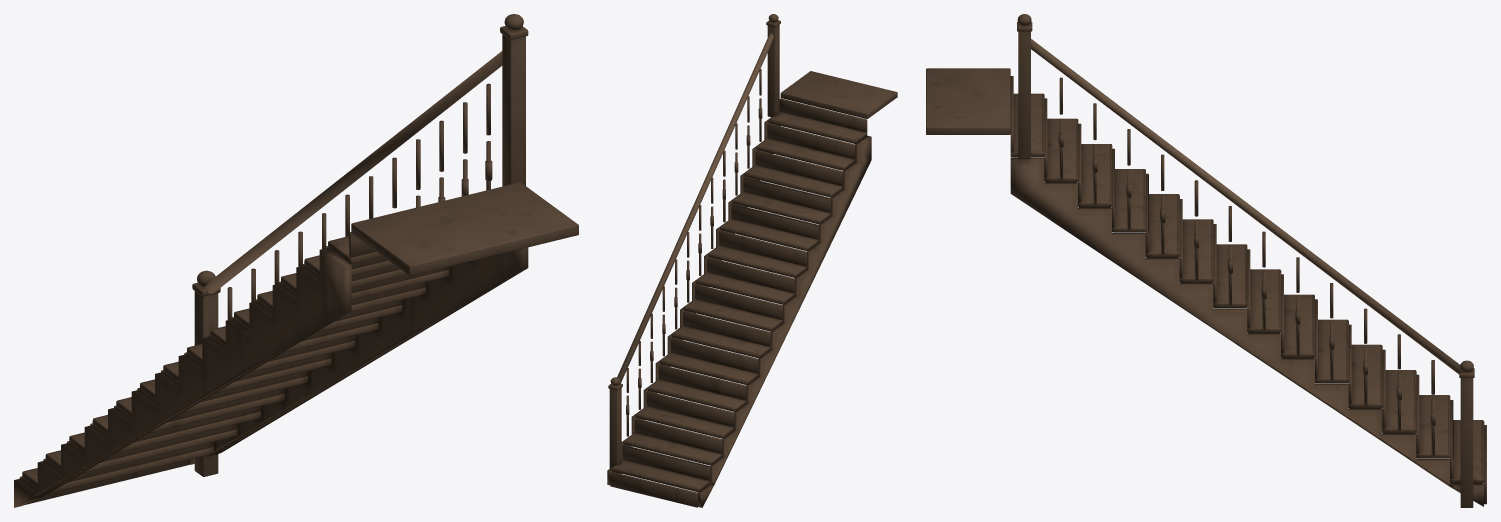
The model's file is treppe_nr4_og.glb.
The picture shows the model from 3 angles, left to right: view 1: azimuth 30°, elevation 25°; view 2: azimuth 150°, elevation 25°; view 3: azimuth 270°, elevation 25°; orthographic projection. The views are drawn at different scales.
Visible parts, largest first — view 1: treppe; view 2: treppe; view 3: treppe.
Part boxes in pixels (x1=…): treppe: x1=14, y1=14, x2=578, y2=507; treppe: x1=607, y1=14, x2=897, y2=507; treppe: x1=926, y1=14, x2=1486, y2=507.
Size of the model in its own units: 1.12 by 3.84 by 3.98.
1 material, 1 textured.
